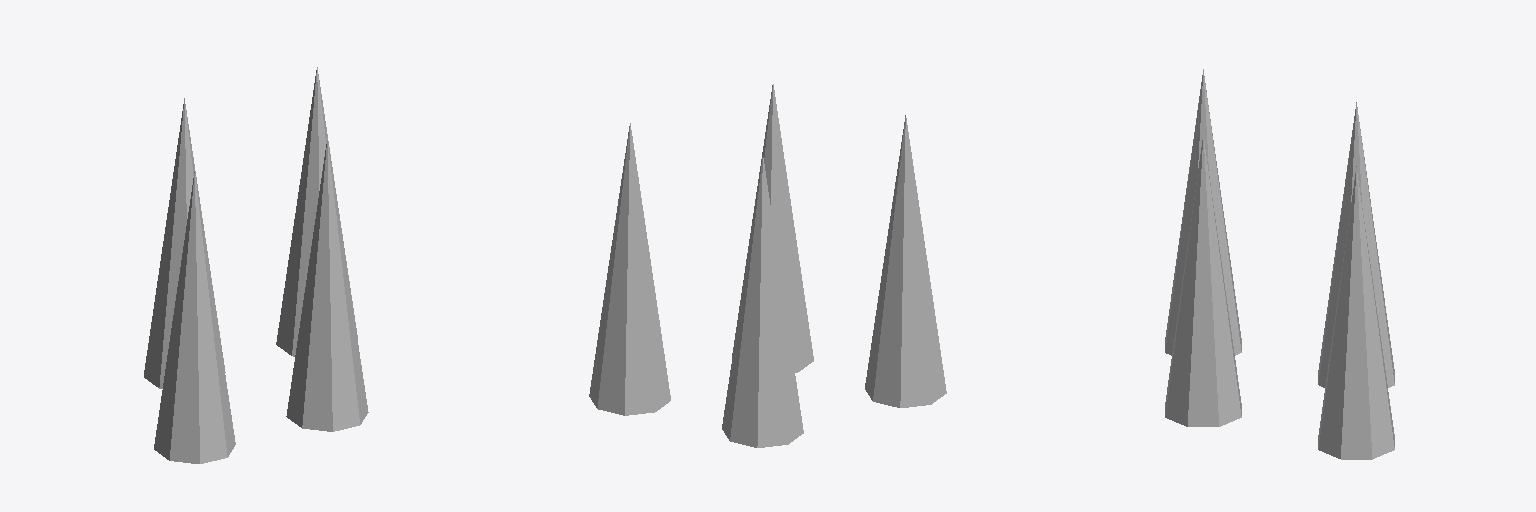
3 renders of one model, left to right at view 1: azimuth 30°, elevation 25°; view 2: azimuth 150°, elevation 25°; view 3: azimuth 270°, elevation 25°, orthographic.
Visible parts, largest first — view 1: cone; view 2: cone; view 3: cone.
Boxes of the visible parts, x1,y1,x2,y2 form: cone: [144, 67, 368, 463]; cone: [589, 84, 946, 447]; cone: [1165, 69, 1394, 459].
Size of the model in its own units: 1 by 1 by 0.75.
1 materials, 1 textured.